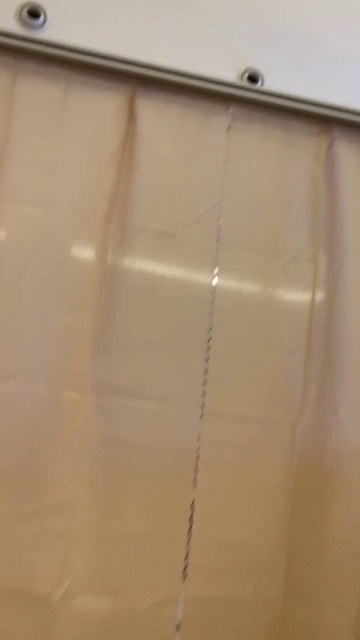curtain: (0, 58, 360, 640)
